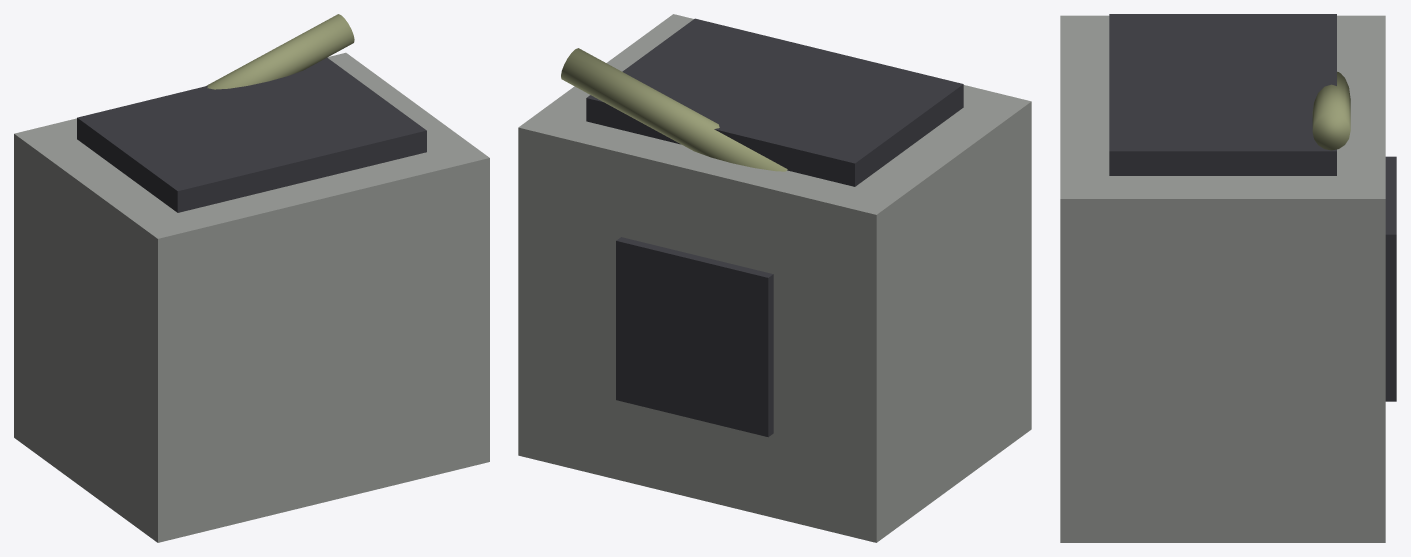
Rendered from prop_chozubachi.glb.
3 views of the same model, side by side, from view 1: azimuth 30°, elevation 25°; view 2: azimuth 150°, elevation 25°; view 3: azimuth 270°, elevation 25° (orthographic). The views are drawn at different scales.
Visible parts, largest first — view 1: chozubachi; view 2: chozubachi; view 3: chozubachi.
Boxes of the visible parts, x1,y1,x2,y2 form: chozubachi: (14,14,489,542); chozubachi: (518,14,1031,542); chozubachi: (1060,14,1396,542).
Size of the model in its own units: 0.8 by 0.8426 by 0.62.
